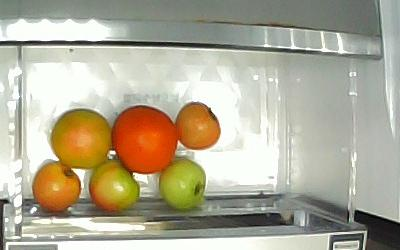tomato: (111, 104, 177, 174), (50, 108, 113, 169), (158, 157, 207, 212), (88, 160, 140, 211), (32, 162, 82, 212), (174, 100, 220, 150)
